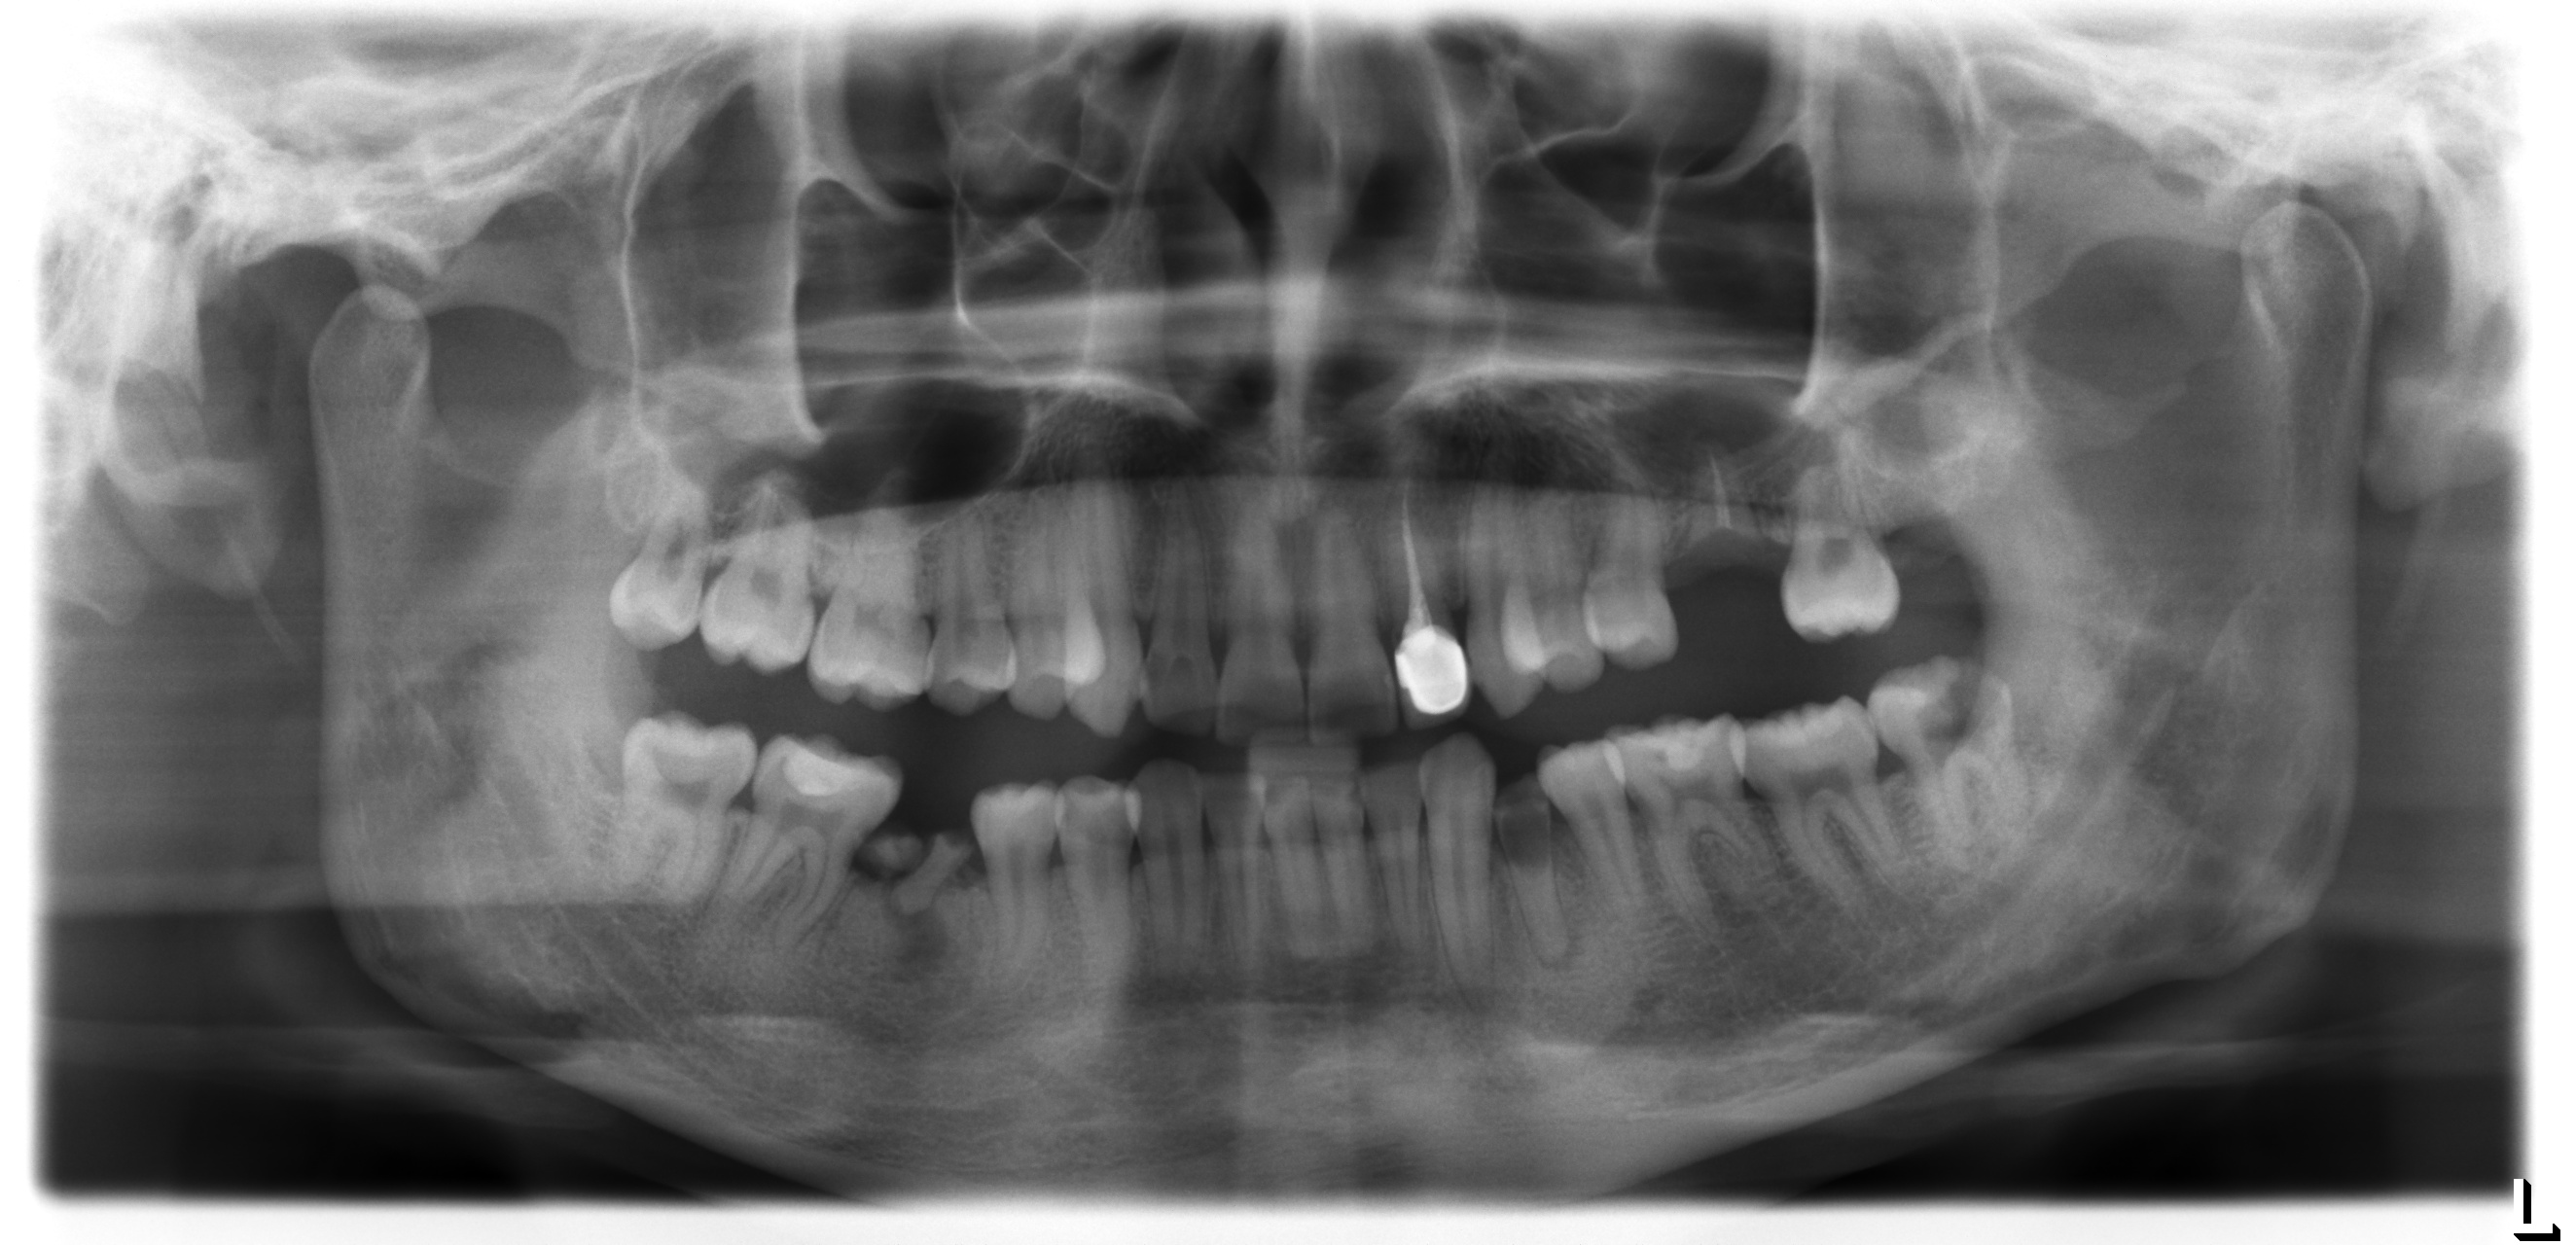Decay: (856, 816, 981, 921), (1907, 655, 2011, 764), (1681, 435, 1758, 563), (1487, 772, 1561, 890)
